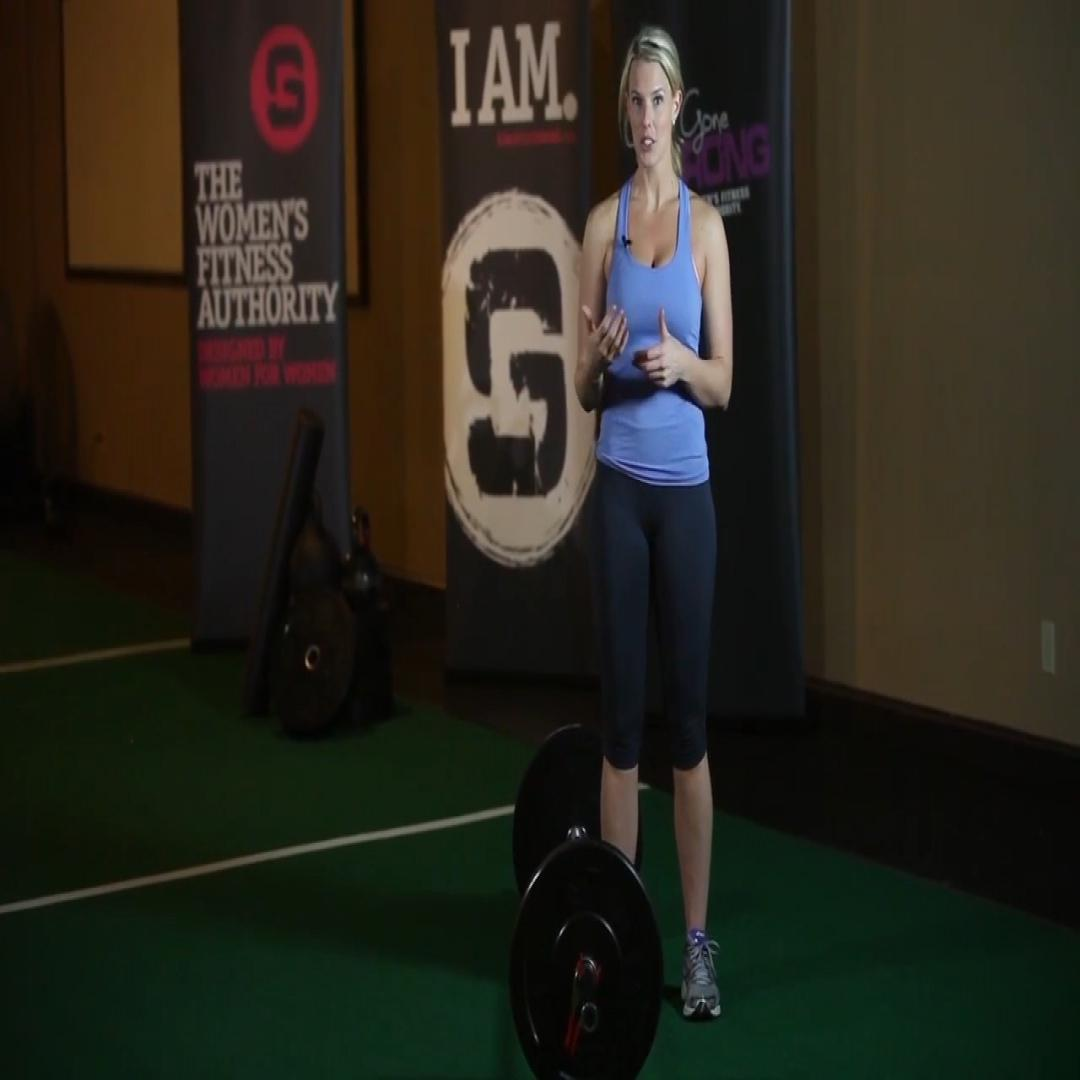Bar: (580, 1000, 599, 1034)
Barbell: (509, 841, 664, 1078)
